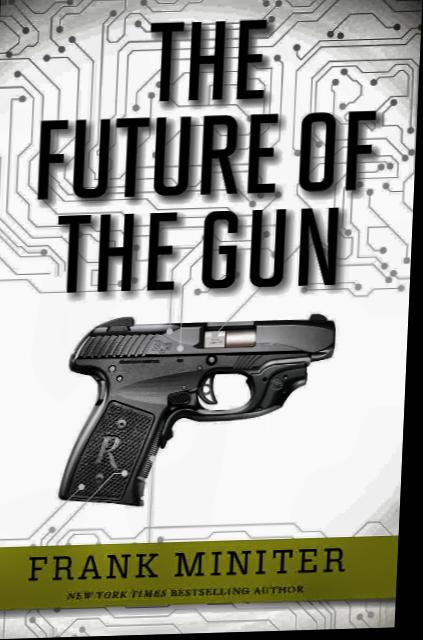pistol: (53, 312, 342, 512)
